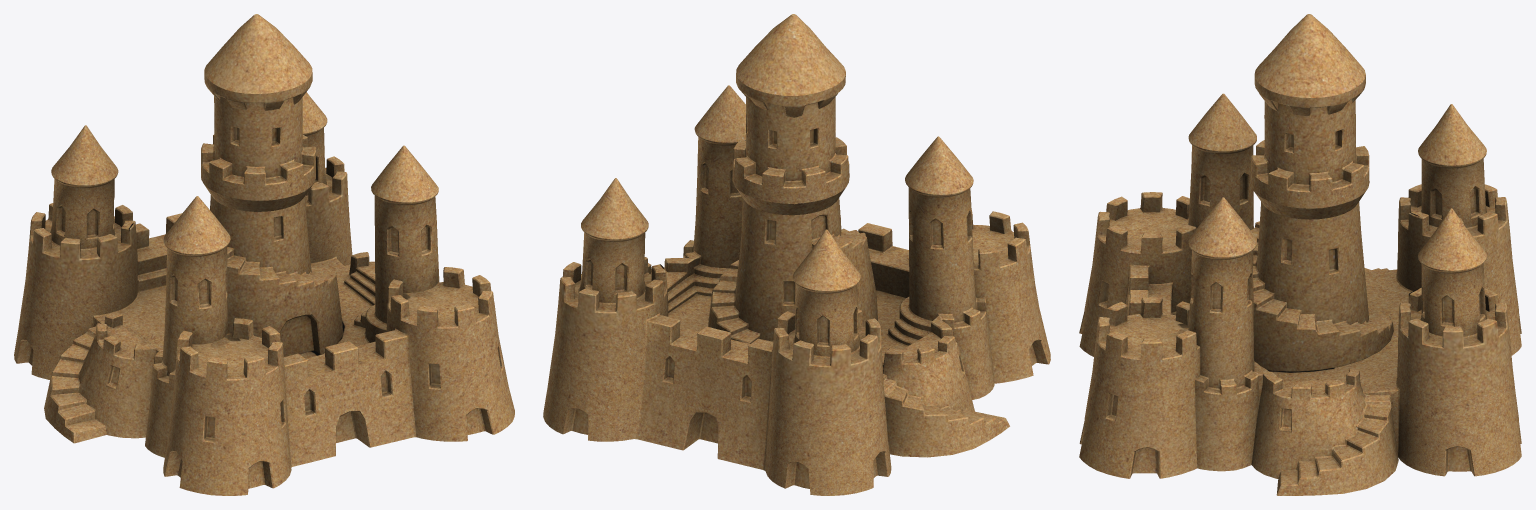
Rendered from SandCastle.glb.
The picture shows the model from 3 angles, left to right: view 1: azimuth 30°, elevation 25°; view 2: azimuth 150°, elevation 25°; view 3: azimuth 270°, elevation 25°; orthographic projection. The views are drawn at different scales.
Visible parts, largest first — view 1: Cylinder.001, Cylinder.002; view 2: Cylinder.001, Cylinder.002; view 3: Cylinder.001, Cylinder.002.
Part boxes in pixels (x1=…): Cylinder.001: x1=14, y1=92, x2=514, y2=495; Cylinder.002: x1=201, y1=14, x2=343, y2=356; Cylinder.001: x1=543, y1=85, x2=1050, y2=495; Cylinder.002: x1=708, y1=14, x2=877, y2=343; Cylinder.001: x1=1079, y1=93, x2=1521, y2=495; Cylinder.002: x1=1250, y1=14, x2=1393, y2=371.
Bounding box in the file's own units: 2.1 × 1.84 × 1.95.
1 material, 1 textured.
